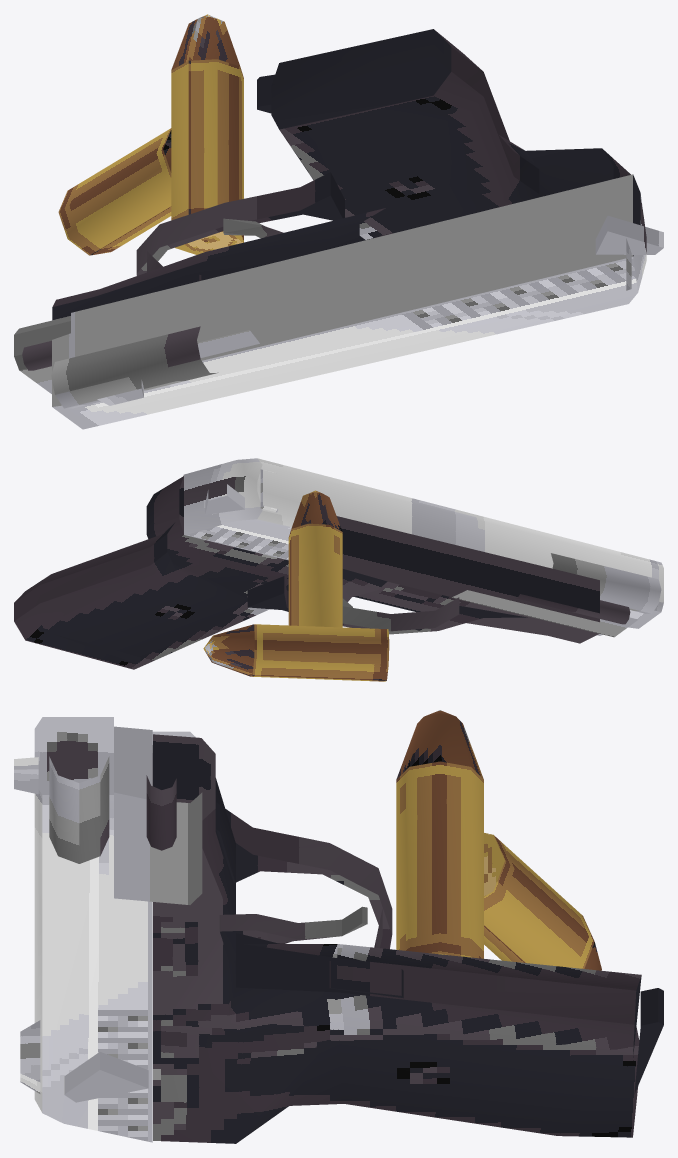
Rendered from ps2_save-icons_gunslingergirlvolumei.glb.
The picture shows the model from 3 angles, top to bottom: view 1: azimuth 30°, elevation 25°; view 2: azimuth 150°, elevation 25°; view 3: azimuth 270°, elevation 25°; orthographic projection. The views are drawn at different scales.
Visible parts, largest first — view 1: icon0.ico; view 2: icon0.ico; view 3: icon0.ico.
Boxes of the visible parts, x1=… form: icon0.ico: x1=14, y1=14, x2=663, y2=429; icon0.ico: x1=14, y1=458, x2=663, y2=681; icon0.ico: x1=14, y1=710, x2=663, y2=1143.
Bounding box in the file's own units: 3.98 × 1.38 × 3.09.
1 material, 1 textured.
